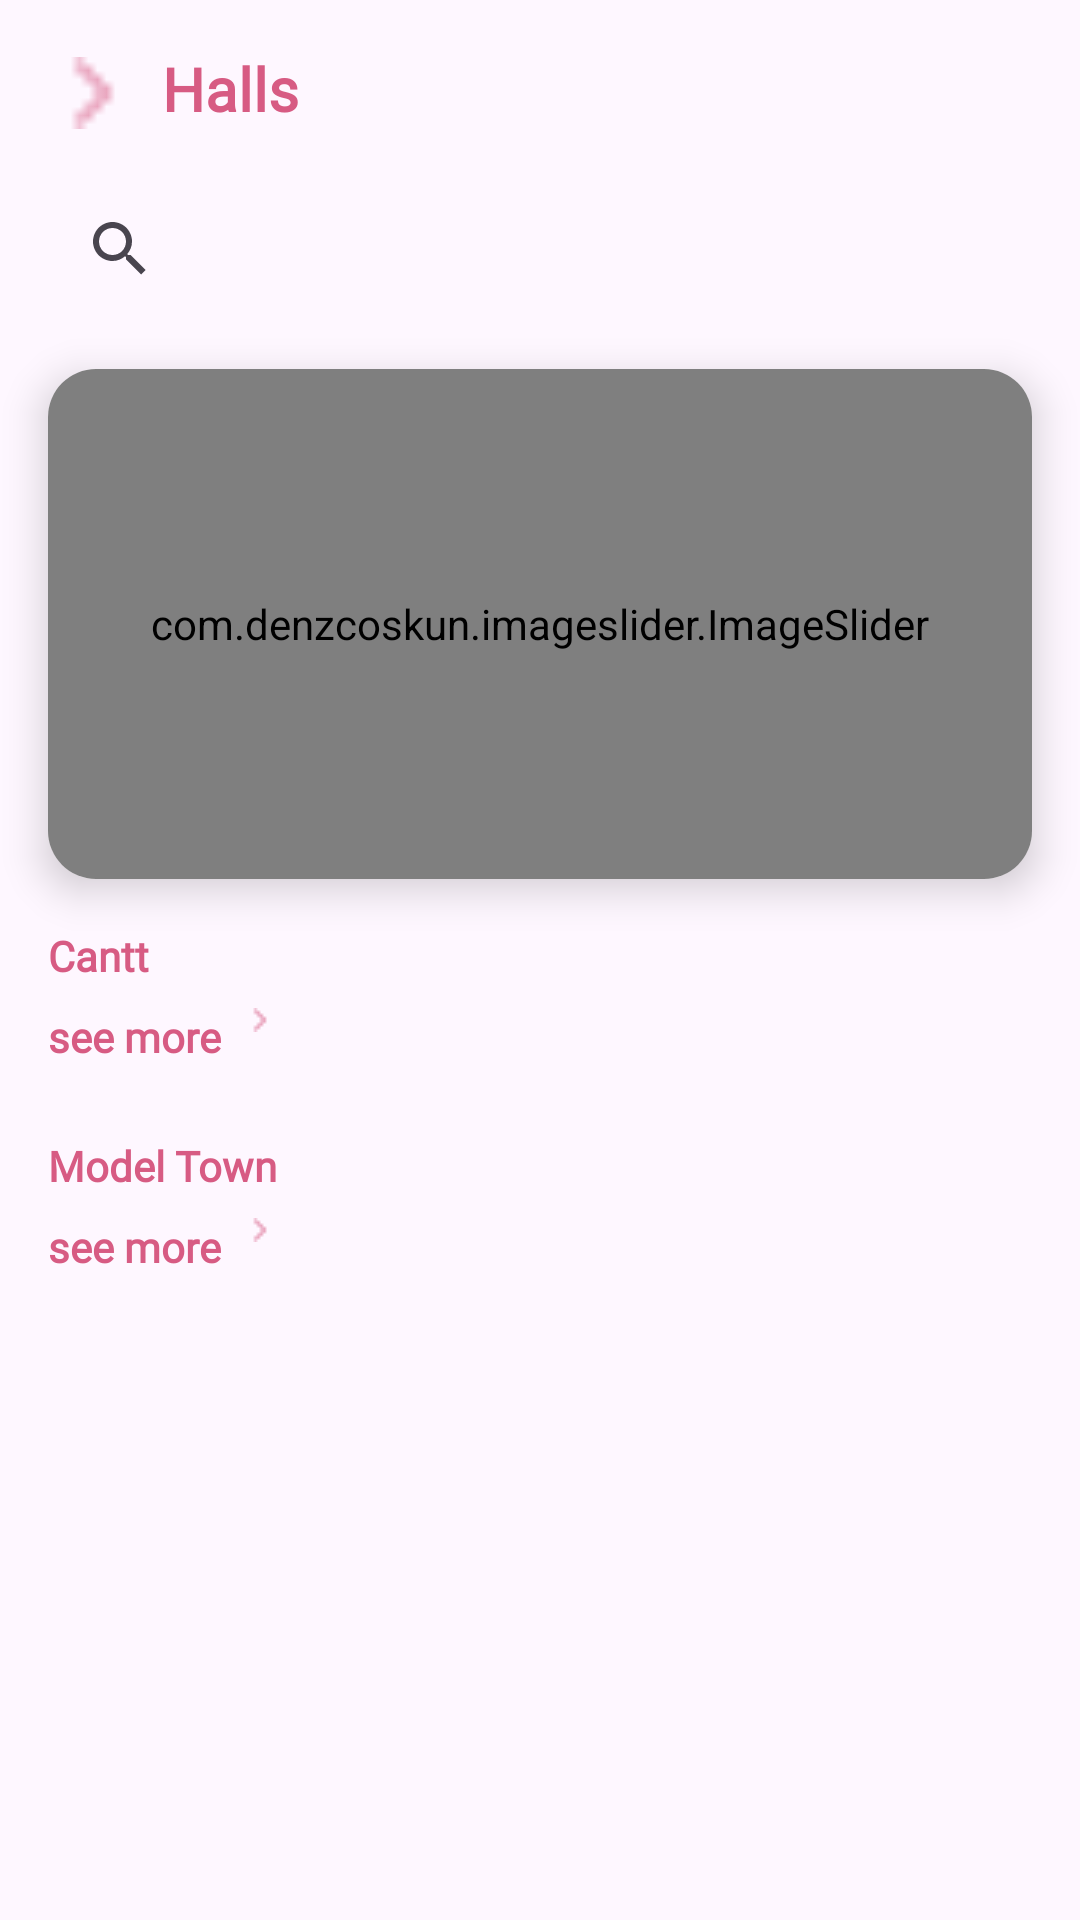

Screen size 1080 x 1920. Icon name, then its center in pixels as (x=x, y=y):
forward: (x=93, y=93), (x=260, y=1020), (x=260, y=1230)
